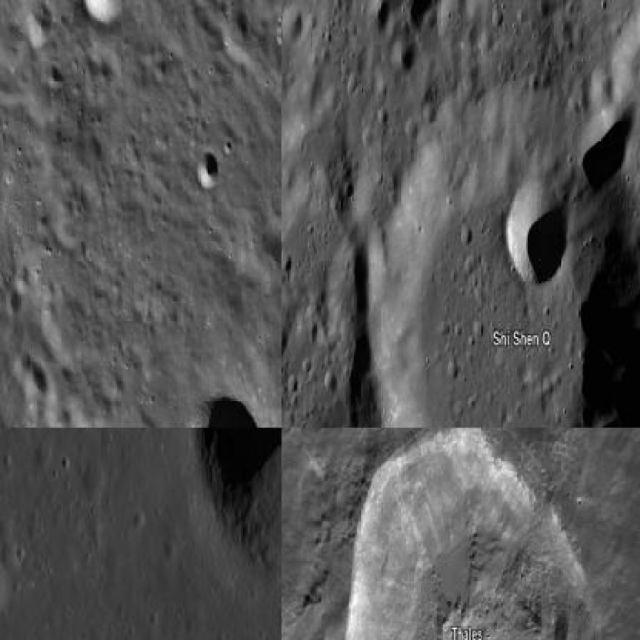crater: (366, 77, 639, 426), (346, 428, 600, 638), (195, 428, 280, 580), (508, 177, 570, 291), (581, 94, 637, 192), (81, 0, 130, 25), (197, 152, 218, 188)
